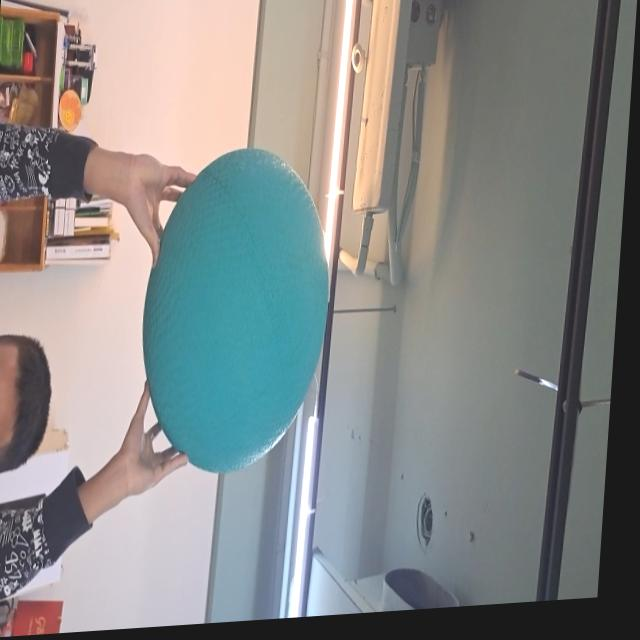ALGAE: (130, 143, 337, 480)
